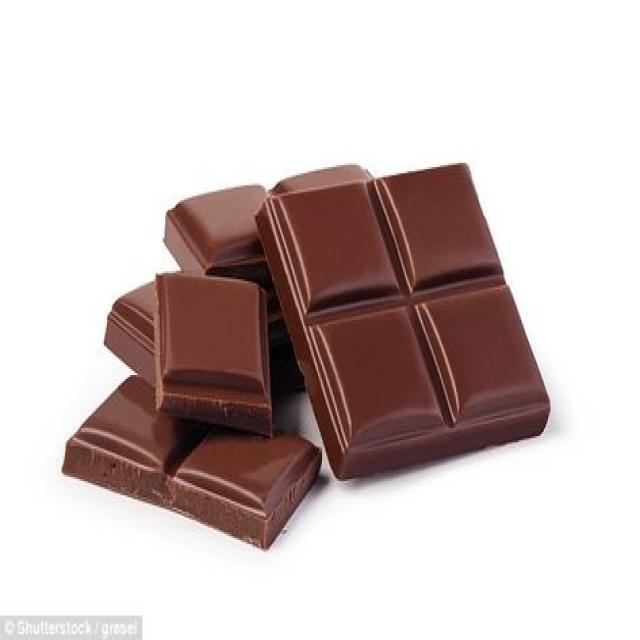Chocolate: (64, 162, 378, 547), (256, 162, 552, 484), (151, 274, 275, 440)
